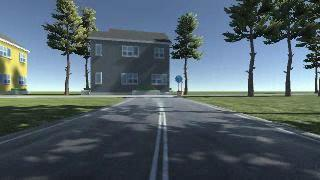turn_left: (174, 74, 182, 83)
